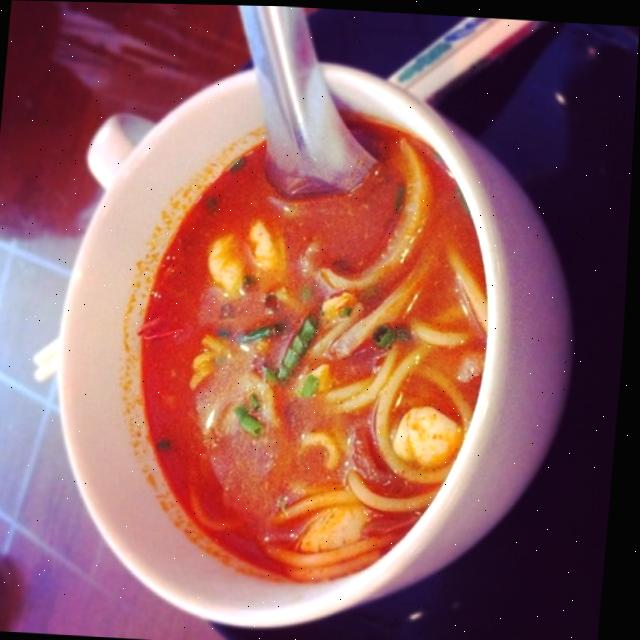汤锅炖物: (15, 40, 614, 637)
